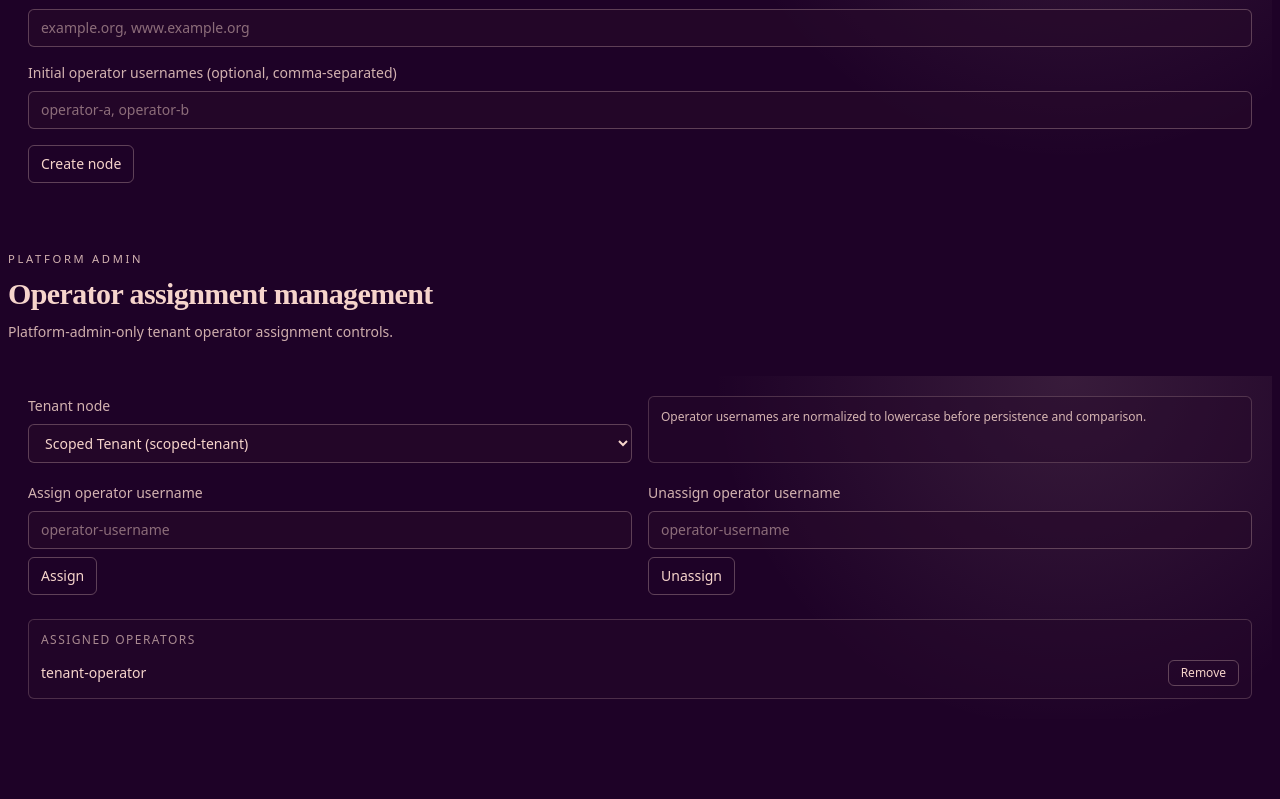
Test case: TenantsListPage › platform admin can unassign username
(page scrolled)
Expected: the text "tenant-operator" is shown, [41,663,146,683]
Step 1. Click the button "Remove" → {"x": 1203, "y": 673}, box [1168,660,1239,686]
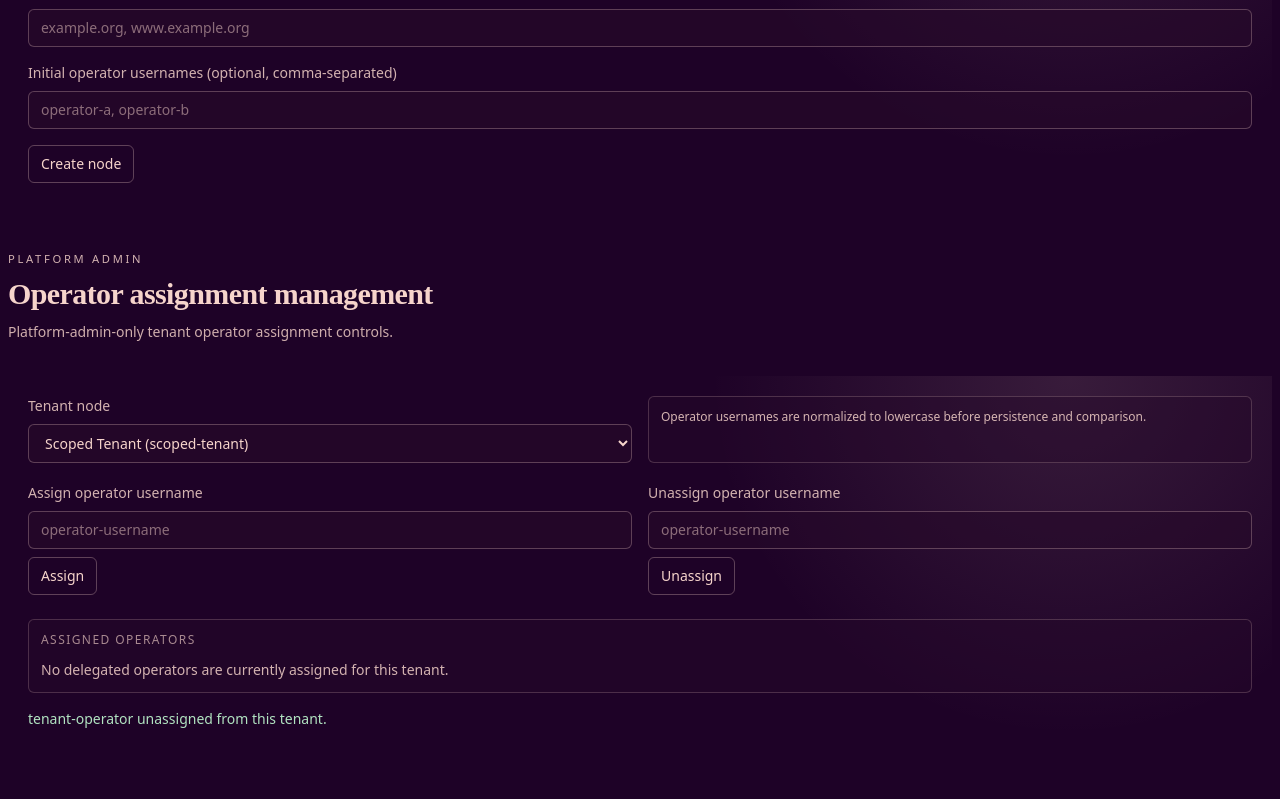
Expected: the text "tenant-operator unassigned from this tenant." is shown, [28,709,327,728]
Expected: the text "No delegated operators are currently assigned for this tenant." is shown, [41,660,448,679]
